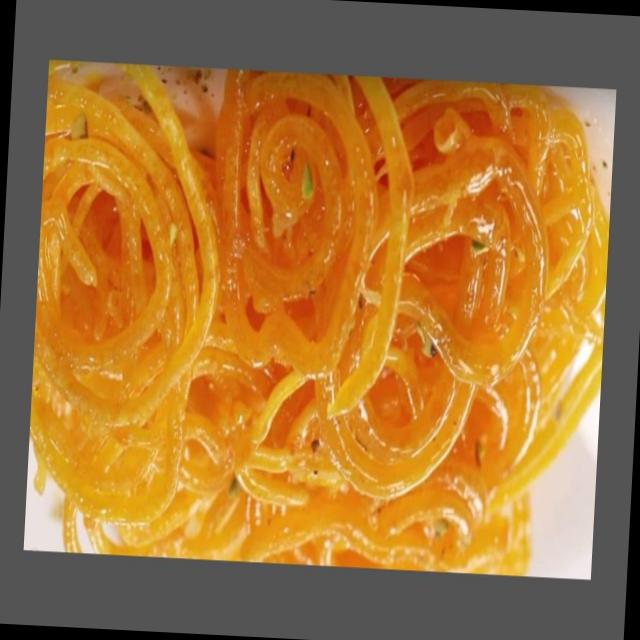jalebi: (36, 81, 598, 544)
